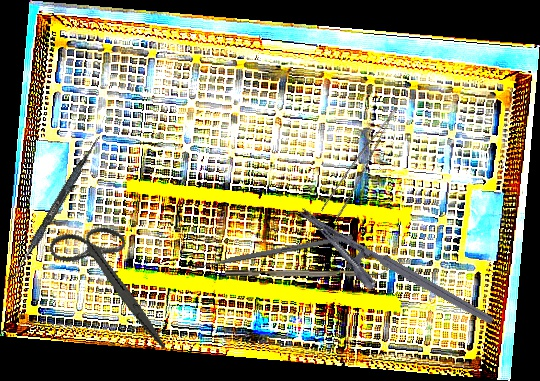Chopper: (225, 262, 393, 279)
Iris Scissors: (30, 212, 196, 349)
Needle Holder: (282, 205, 496, 352)
Pusher: (184, 233, 354, 273)
Spatula Surgical: (7, 132, 102, 286)
Tissue Forceps: (315, 106, 416, 222)
